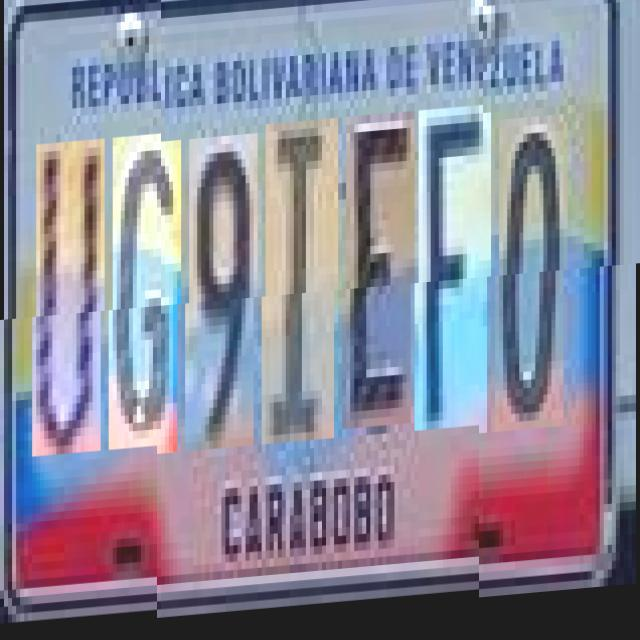9: (189, 138, 258, 455)
E: (346, 118, 414, 436)
F: (418, 113, 492, 438)
G: (112, 143, 182, 460)
I: (266, 124, 338, 449)
O: (500, 116, 568, 433)
U: (36, 148, 105, 466)
